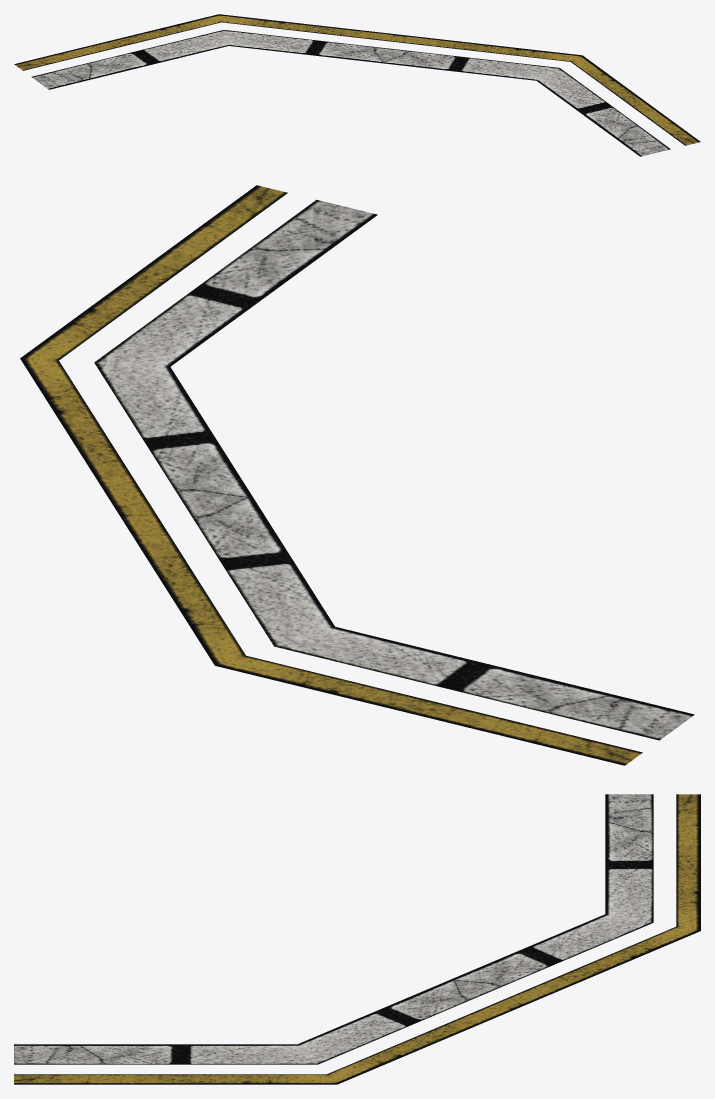
Rendered from DECAL_Ground_05.fbx.
3 renders of one model, top to bottom at view 1: azimuth 30°, elevation 25°; view 2: azimuth 150°, elevation 25°; view 3: azimuth 270°, elevation 25°, orthographic. The views are drawn at different scales.
Parts seen in each view (by area): view 1: DECAL_Ground_05; view 2: DECAL_Ground_05; view 3: DECAL_Ground_05.
Boxes of the visible parts, bbox=[...] form: DECAL_Ground_05: bbox=[14, 14, 700, 156]; DECAL_Ground_05: bbox=[20, 185, 694, 765]; DECAL_Ground_05: bbox=[14, 794, 700, 1084].
Size of the model in its own units: 250 by 2.19e-05 by 250.
1 material, 1 textured.
